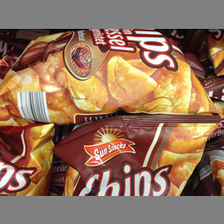chips: (1, 30, 217, 122), (56, 114, 222, 197)
